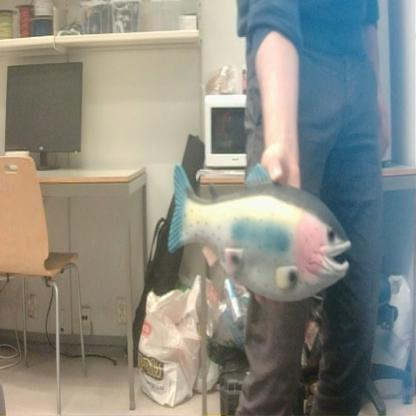rubberfish: (167, 145, 354, 306)
